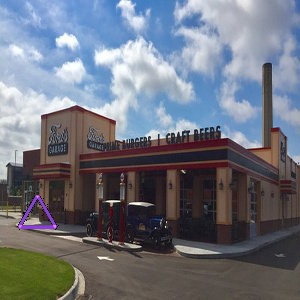triangle: (14, 194, 62, 232)
